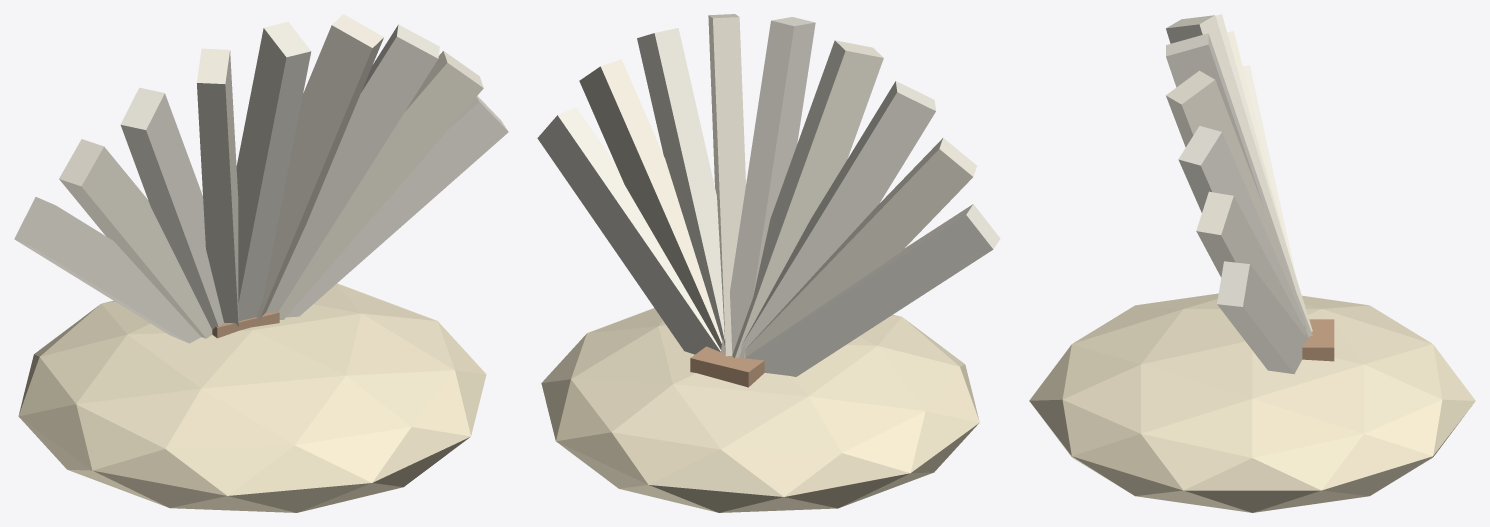
The model's file is 18-Casas_decor_concha_decor.glb.
3 views of the same model, side by side, from view 1: azimuth 30°, elevation 25°; view 2: azimuth 150°, elevation 25°; view 3: azimuth 270°, elevation 25° (orthographic). The views are drawn at different scales.
Visible parts, largest first — view 1: SM_Concha_Base, SM_Concha_Costilla.004, SM_Concha_Costilla.005, SM_Concha_Costilla.006, SM_Concha_Costilla.007, SM_Concha_Costilla.002, SM_Concha_Costilla.001, SM_Concha_Costilla.003, SM_Concha_Costilla, SM_Concha_Costilla.008, SM_Concha_Umbo; view 2: SM_Concha_Base, SM_Concha_Costilla, SM_Concha_Costilla.003, SM_Concha_Costilla.008, SM_Concha_Costilla.002, SM_Concha_Costilla.004, SM_Concha_Costilla.001, SM_Concha_Costilla.007, SM_Concha_Costilla.006, SM_Concha_Costilla.005, SM_Concha_Umbo; view 3: SM_Concha_Base, SM_Concha_Costilla.008, SM_Concha_Costilla.006, SM_Concha_Costilla.005, SM_Concha_Costilla.007, SM_Concha_Costilla.003, SM_Concha_Costilla.004, SM_Concha_Umbo, SM_Concha_Costilla, SM_Concha_Costilla.002, SM_Concha_Costilla.001.
Boxes of the visible parts, left/top/right/bottom form: SM_Concha_Base: left=18, top=283, right=486, bottom=512; SM_Concha_Costilla.004: left=236, top=22, right=311, bottom=321; SM_Concha_Costilla.005: left=256, top=14, right=383, bottom=321; SM_Concha_Costilla.006: left=266, top=24, right=439, bottom=312; SM_Concha_Costilla.007: left=278, top=51, right=483, bottom=319; SM_Concha_Costilla.002: left=120, top=87, right=223, bottom=329; SM_Concha_Costilla.001: left=59, top=139, right=212, bottom=338; SM_Concha_Costilla.003: left=197, top=48, right=238, bottom=326; SM_Concha_Costilla: left=14, top=197, right=200, bottom=343; SM_Concha_Costilla.008: left=286, top=96, right=508, bottom=317; SM_Concha_Umbo: left=212, top=312, right=279, bottom=338; SM_Concha_Base: left=541, top=308, right=979, bottom=512; SM_Concha_Costilla: left=745, top=204, right=1000, bottom=376; SM_Concha_Costilla.003: left=732, top=40, right=883, bottom=358; SM_Concha_Costilla.008: left=537, top=107, right=720, bottom=354; SM_Concha_Costilla.002: left=741, top=81, right=935, bottom=350; SM_Concha_Costilla.004: left=720, top=17, right=815, bottom=358; SM_Concha_Costilla.001: left=745, top=138, right=976, bottom=356; SM_Concha_Costilla.007: left=579, top=59, right=722, bottom=349; SM_Concha_Costilla.006: left=637, top=28, right=724, bottom=345; SM_Concha_Costilla.005: left=708, top=14, right=745, bottom=356; SM_Concha_Umbo: left=690, top=346, right=764, bottom=387; SM_Concha_Base: left=1029, top=293, right=1475, bottom=512; SM_Concha_Costilla.008: left=1217, top=261, right=1307, bottom=374; SM_Concha_Costilla.006: left=1178, top=126, right=1306, bottom=330; SM_Concha_Costilla.005: left=1166, top=70, right=1312, bottom=336; SM_Concha_Costilla.007: left=1196, top=191, right=1306, bottom=336; SM_Concha_Costilla.003: left=1166, top=15, right=1312, bottom=331; SM_Concha_Costilla.004: left=1166, top=33, right=1308, bottom=338; SM_Concha_Umbo: left=1302, top=319, right=1334, bottom=361; SM_Concha_Costilla: left=1242, top=65, right=1296, bottom=276; SM_Concha_Costilla.002: left=1215, top=14, right=1288, bottom=251; SM_Concha_Costilla.001: left=1227, top=31, right=1291, bottom=261.
Size of the model in its own units: 0.3525 by 0.3133 by 0.3.
